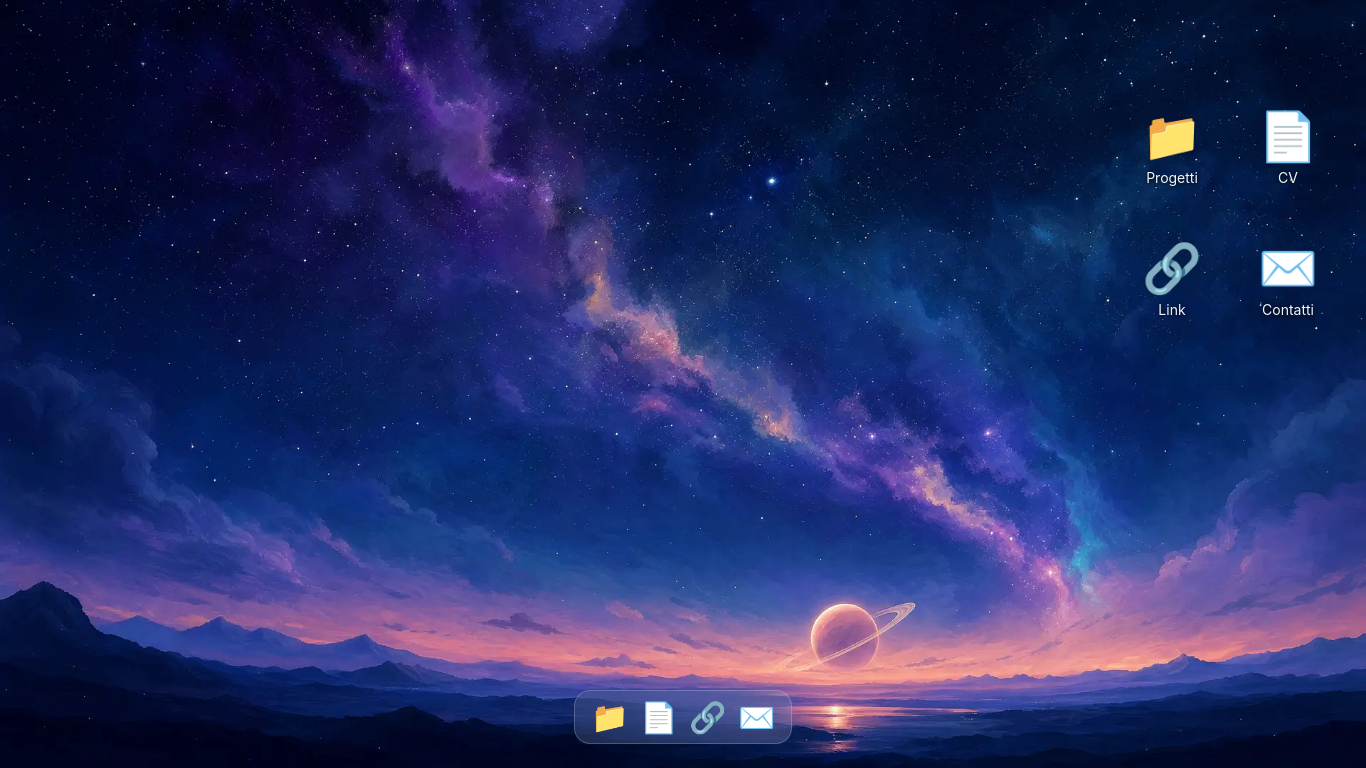
Test: apre e chiude la finestra Progetti
Click the button "📁 Progetti": (1172, 150) [1126,96,1218,204]
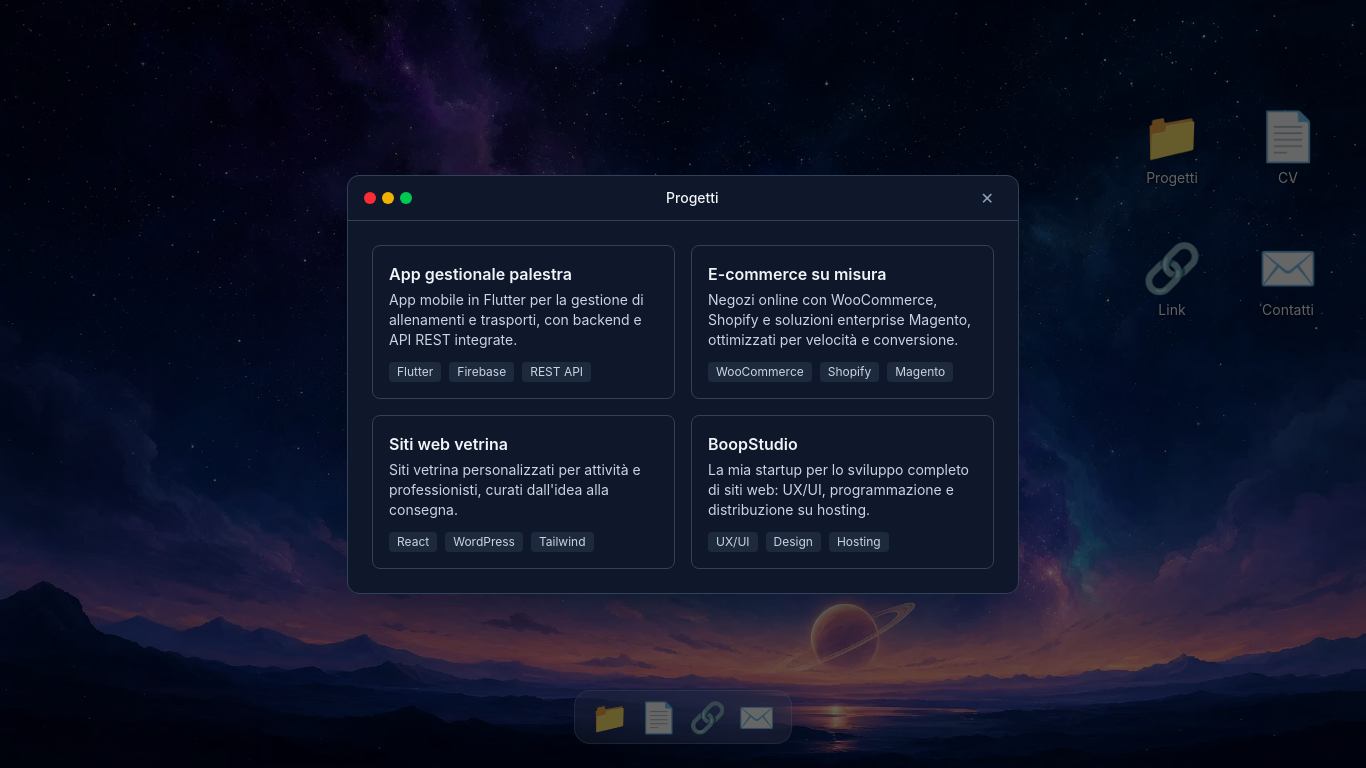
Expected: the dialog "Progetti" is shown, [347,174,1019,594]
Expected: the heading "App gestionale palestra" is shown, [389,264,572,284]
Click the button named "Chiudi": (987, 198) [973,184,1002,212]
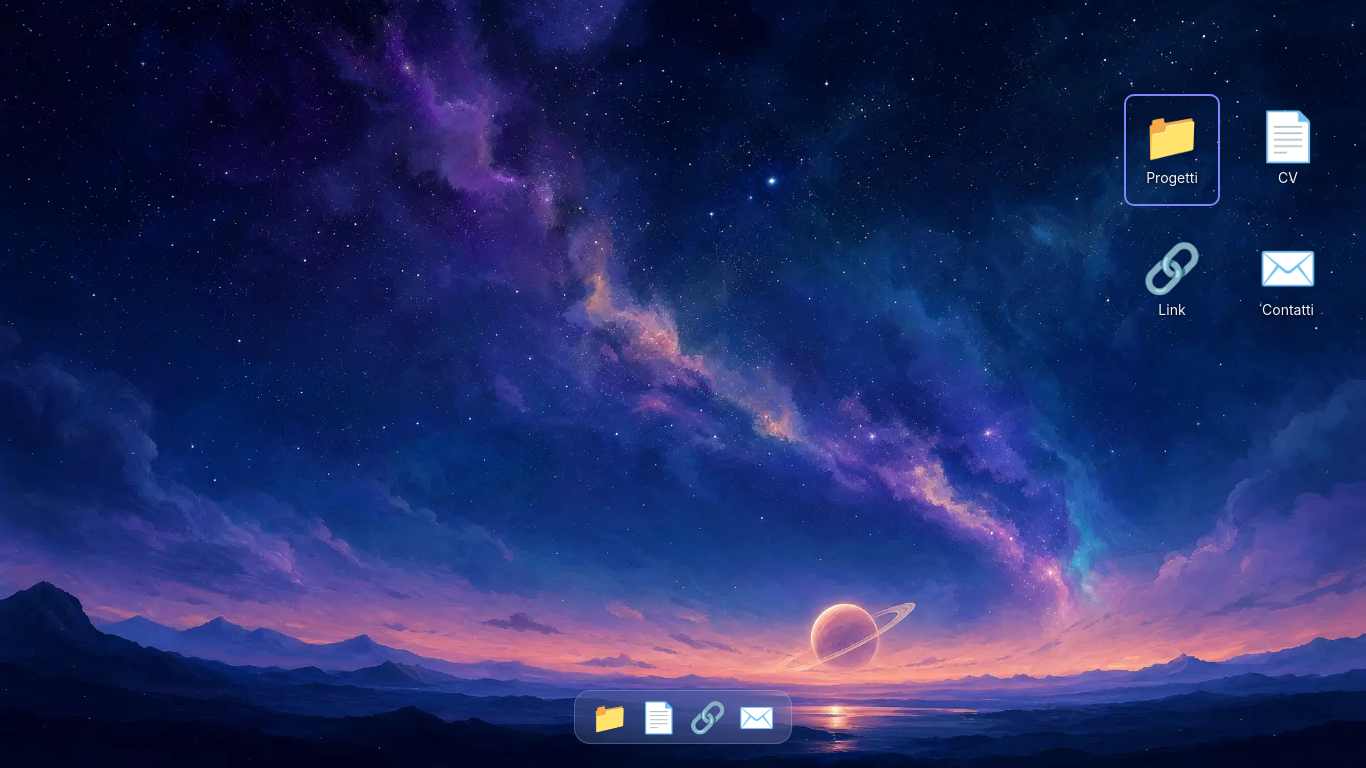
Expected: the dialog is gone
